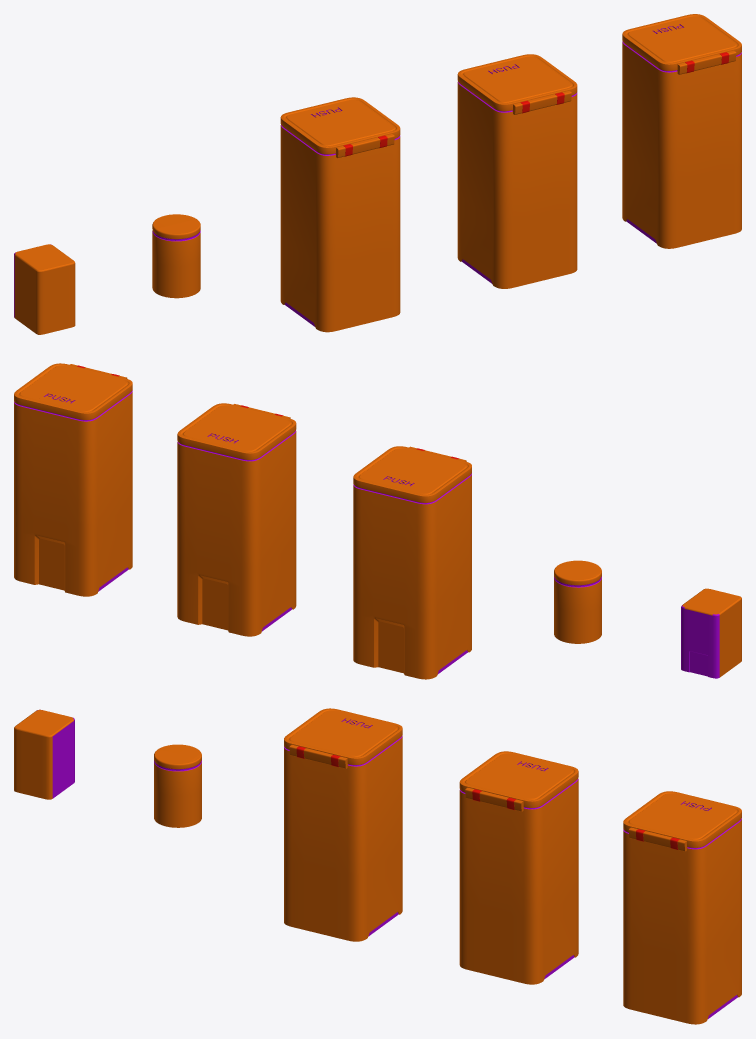
File: Bins_High.FBX
3 renders of one model, top to bottom at view 1: azimuth 30°, elevation 25°; view 2: azimuth 150°, elevation 25°; view 3: azimuth 330°, elevation 25°, orthographic.
Visible parts, largest first — view 1: Bin_High, Bin_WP_1_High, Bin_WP_2_High; view 2: Bin_High, Bin_WP_1_High, Bin_WP_2_High; view 3: Bin_High, Bin_WP_1_High, Bin_WP_2_High.
Part boxes in pixels (x1,y1,x2,y2): Bin_High: [280, 14, 741, 332]; Bin_WP_1_High: [14, 244, 75, 334]; Bin_WP_2_High: [152, 214, 200, 298]; Bin_High: [14, 363, 471, 679]; Bin_WP_1_High: [681, 588, 741, 678]; Bin_WP_2_High: [554, 560, 601, 643]; Bin_High: [284, 708, 741, 1024]; Bin_WP_1_High: [14, 709, 74, 799]; Bin_WP_2_High: [154, 744, 201, 827].
Bounding box in the file's own units: 102 × 25.74 × 12.58.
